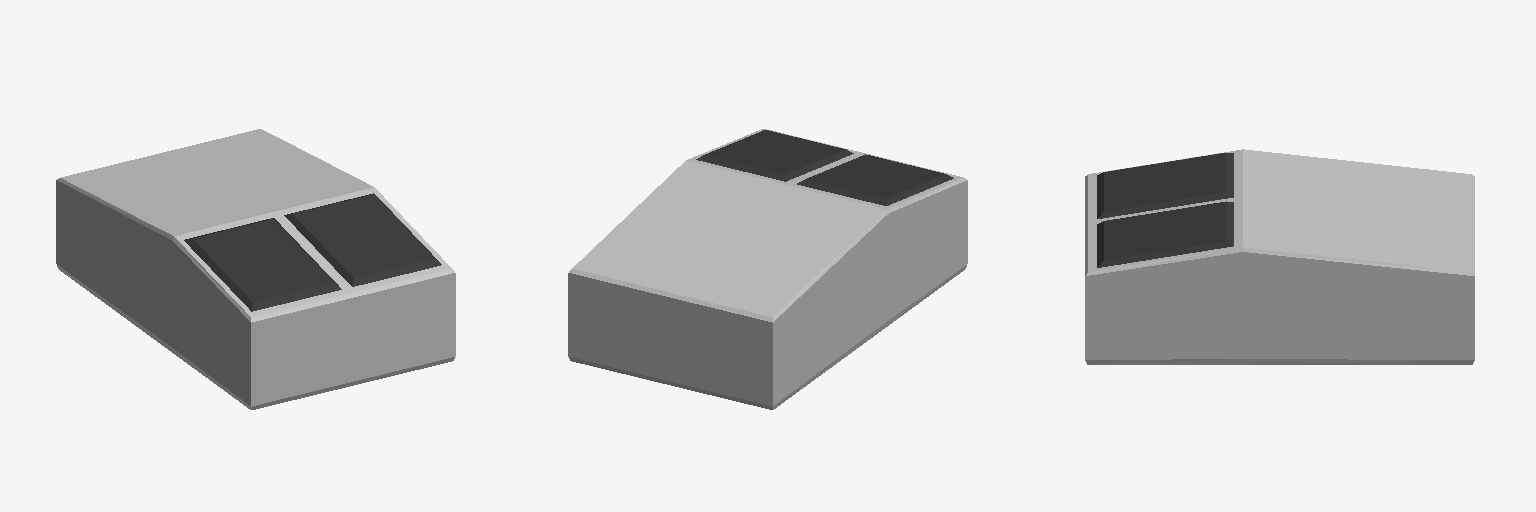
File: Mouse.obj
3 renders of one model, left to right at view 1: azimuth 30°, elevation 25°; view 2: azimuth 150°, elevation 25°; view 3: azimuth 270°, elevation 25°, orthographic.
Visible parts, largest first — view 1: Plane.009_Plane.139; view 2: Plane.009_Plane.139; view 3: Plane.009_Plane.139.
Boxes of the visible parts, x1,y1,x2,y2 form: Plane.009_Plane.139: [56, 129, 455, 409]; Plane.009_Plane.139: [568, 129, 967, 409]; Plane.009_Plane.139: [1085, 149, 1474, 364].
Size of the model in its own units: 0.1095 by 0.0607 by 0.1806.